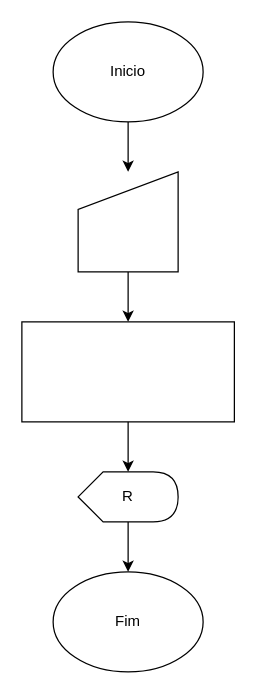
Image size: 256x694. Some labels were removed from this diagram. Here are the shapes that lost their labels. From the top down, the centre of each, then its label:
(127,221): Raio do Circulo
(127,371): R <- (Raio do Circulo^2) * 3,14
